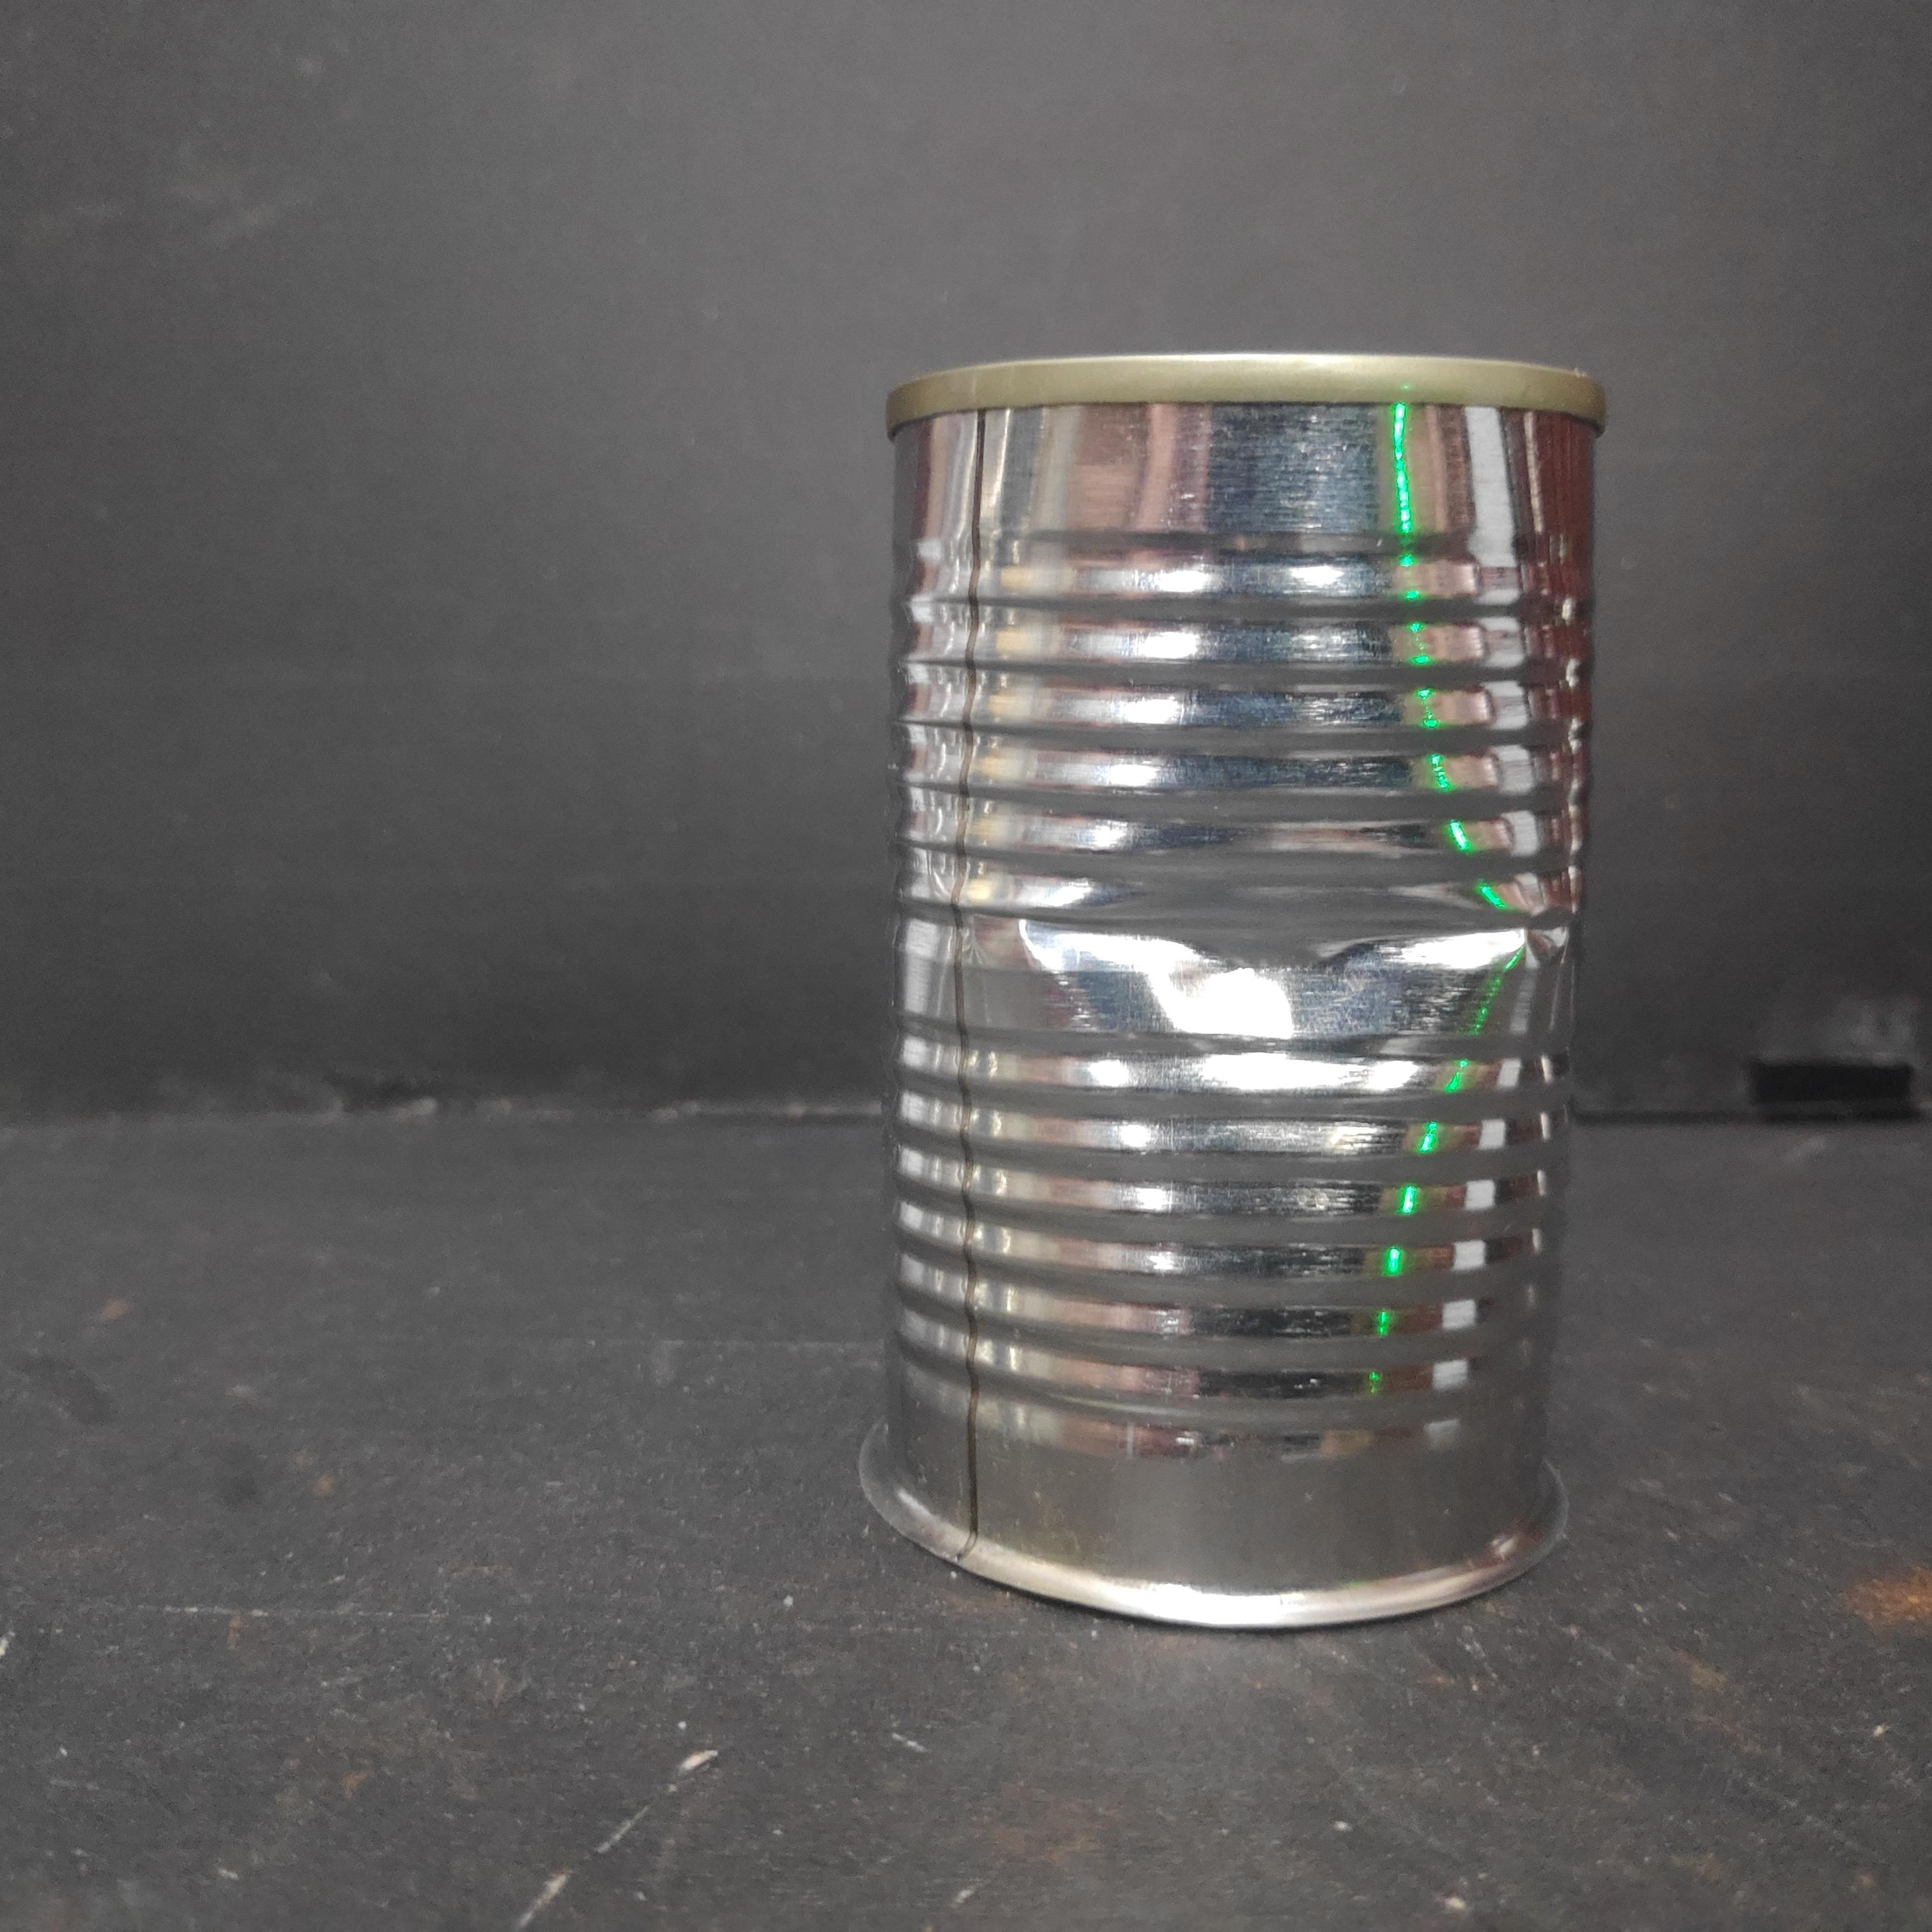Minor Defect: (879, 345, 1617, 1633)
